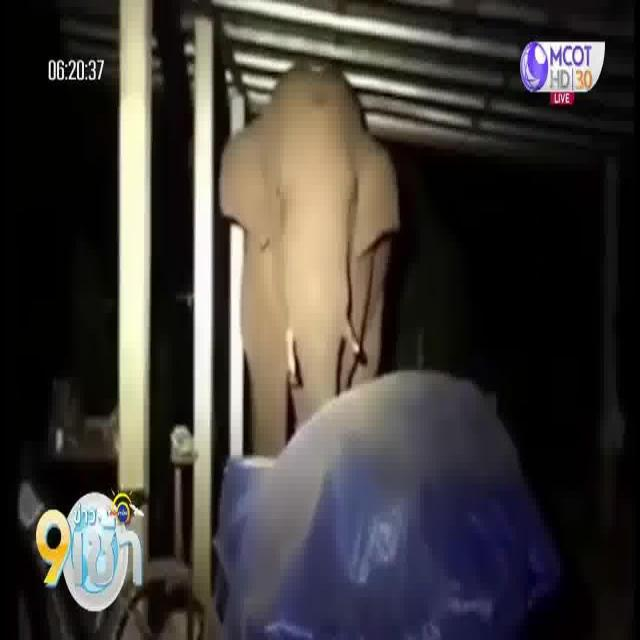Elephant: (230, 55, 388, 388)
